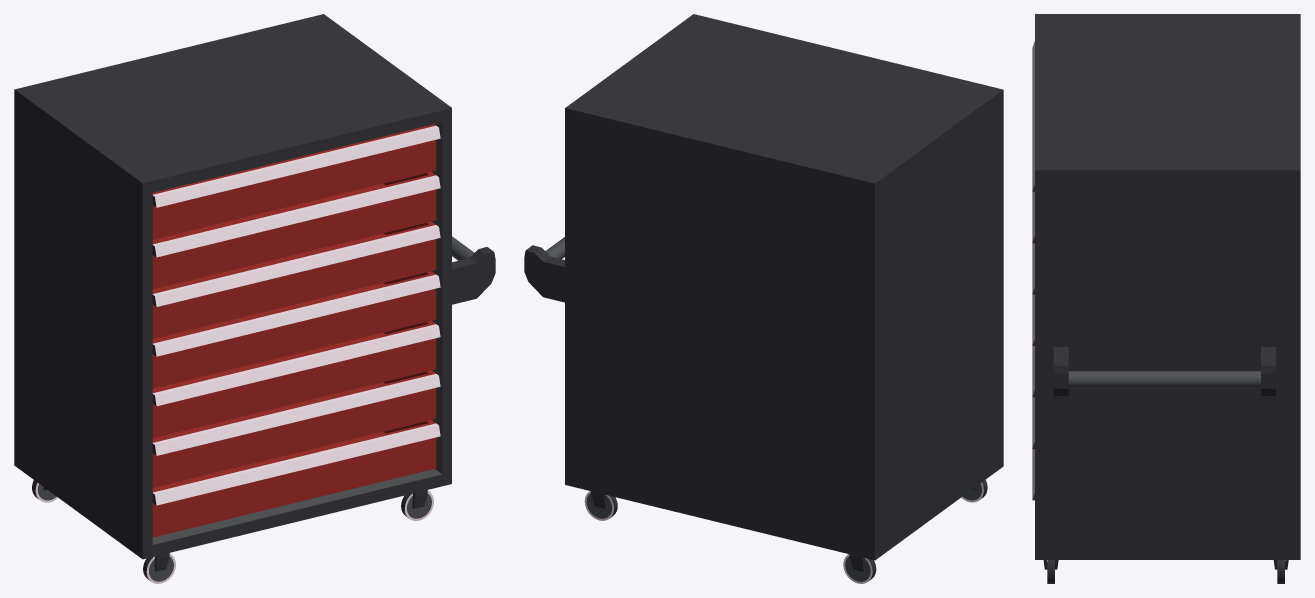
File: toolboxwithwheels.fbx
3 renders of one model, left to right at view 1: azimuth 30°, elevation 25°; view 2: azimuth 150°, elevation 25°; view 3: azimuth 270°, elevation 25°, orthographic. The views are drawn at different scales.
Parts seen in each view (by area): view 1: box, drawer4, drawer2, drawer6, drawer7, drawer3, drawer5, drawer1 top; view 2: box; view 3: box, drawer1 top.
Part boxes in pixels (x1=…): box: x1=14, y1=14, x2=495, y2=583; drawer4: x1=152, y1=271, x2=440, y2=388; drawer2: x1=152, y1=172, x2=440, y2=289; drawer6: x1=152, y1=370, x2=440, y2=487; drawer7: x1=152, y1=420, x2=440, y2=537; drawer3: x1=152, y1=221, x2=440, y2=338; drawer5: x1=152, y1=321, x2=440, y2=438; drawer1 top: x1=152, y1=124, x2=440, y2=239; box: x1=524, y1=14, x2=1003, y2=583; box: x1=1035, y1=14, x2=1300, y2=583; drawer1 top: x1=1032, y1=41, x2=1034, y2=191.
Size of the model in its own units: 326 by 353 by 202.
